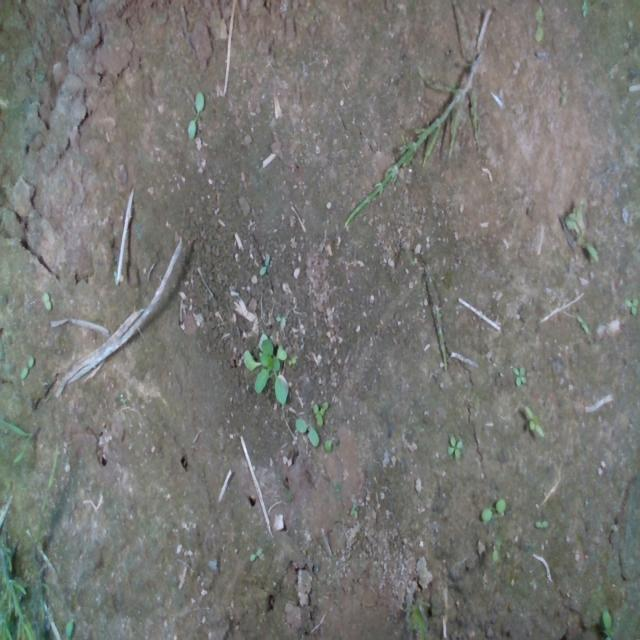weed: (186, 90, 203, 141), (524, 404, 545, 438), (481, 496, 506, 522), (19, 352, 34, 380), (446, 434, 462, 459), (511, 364, 527, 386), (575, 311, 589, 335), (532, 517, 548, 530), (42, 291, 52, 310)
